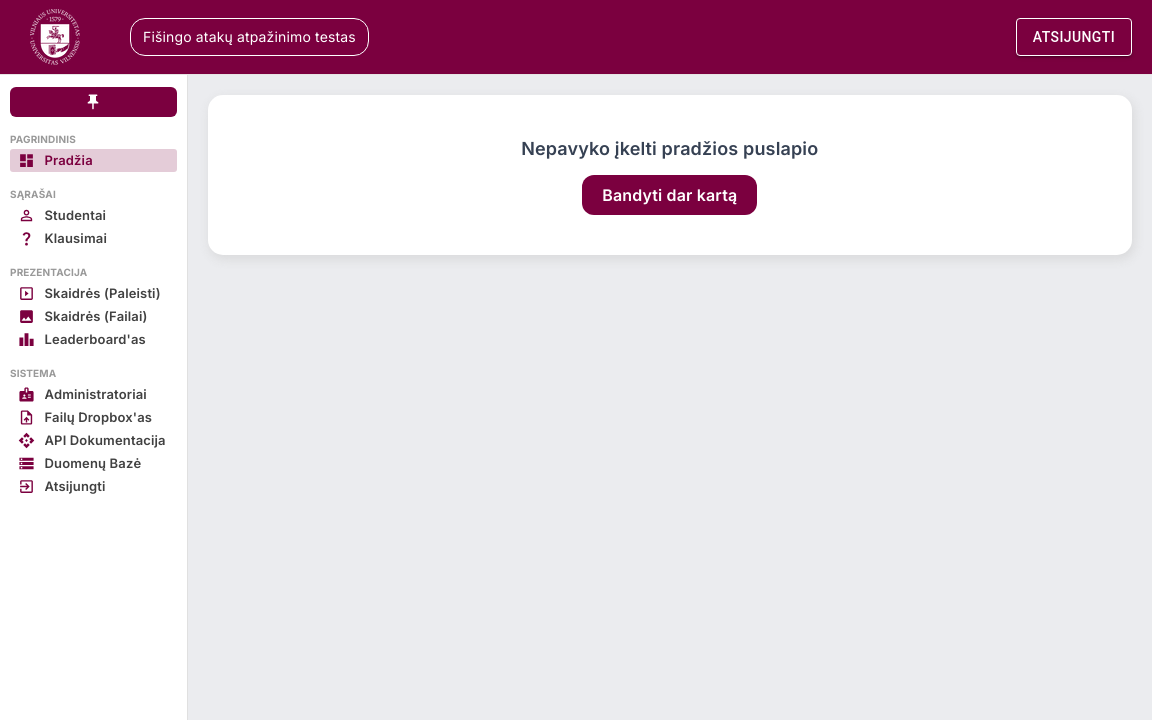
Home — the first load › asks again at once when 'Bandyti dar kartą' is pressed
Click the button "Bandyti dar kartą": [670, 195] box [582,175,757,215]
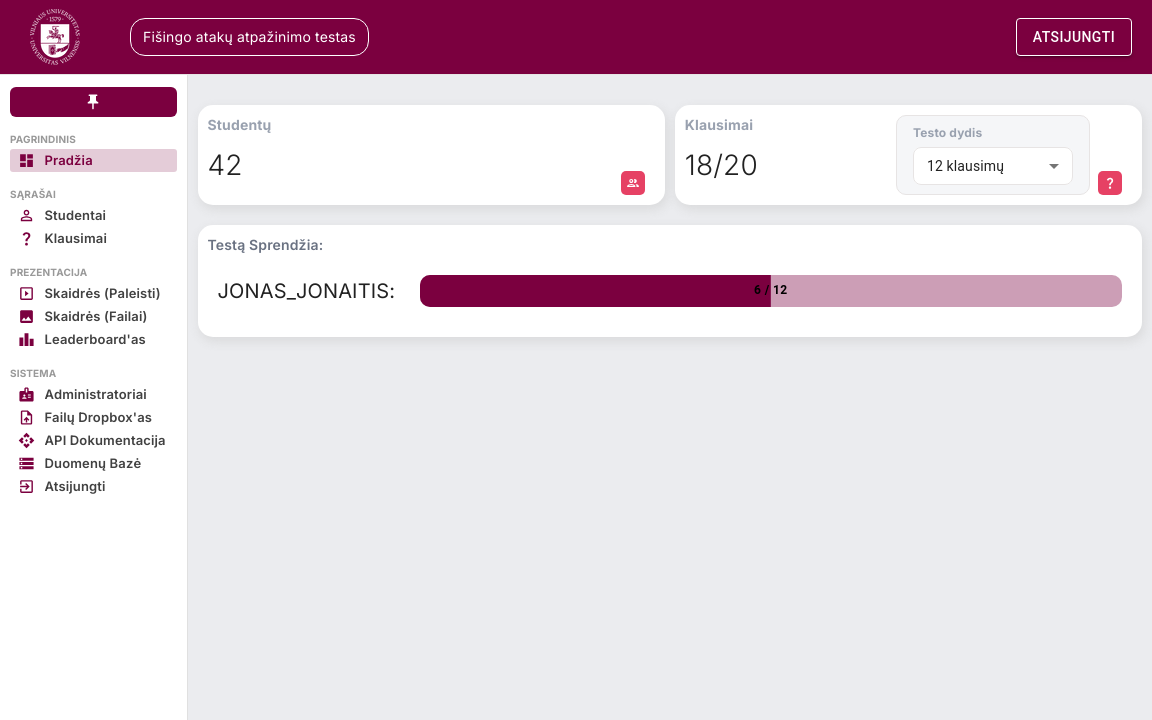
expect the message "Nepavyko įkelti pradžios puslapio Bandyti dar kartą" is gone: met
